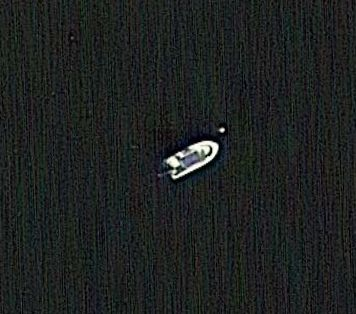boat: (162, 137, 226, 183)
